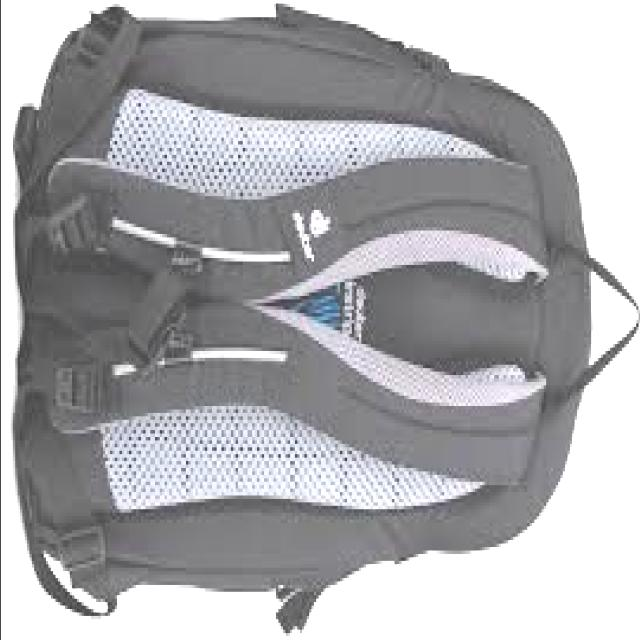backpack: (13, 1, 640, 634)
